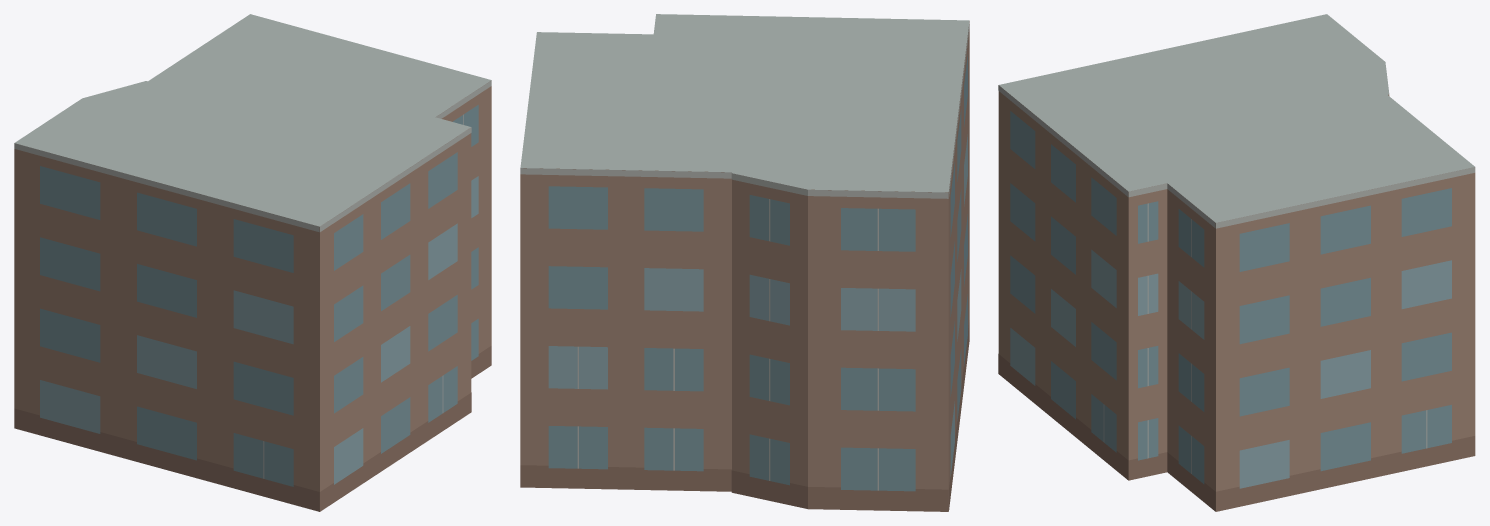
File: survey-upis-32943259.glb
3 renders of one model, left to right at view 1: azimuth 30°, elevation 25°; view 2: azimuth 150°, elevation 25°; view 3: azimuth 270°, elevation 25°, orthographic. The views are drawn at different scales.
Parts seen in each view (by area): view 1: survey-upis-32943259.tmp; view 2: survey-upis-32943259.tmp; view 3: survey-upis-32943259.tmp.
Part boxes in pixels (box(x1,y1,x2,y2)): survey-upis-32943259.tmp: box(14, 14, 491, 511); survey-upis-32943259.tmp: box(520, 14, 969, 511); survey-upis-32943259.tmp: box(998, 14, 1475, 511).
Size of the model in its own units: 18.93 by 12.2 by 18.26.
